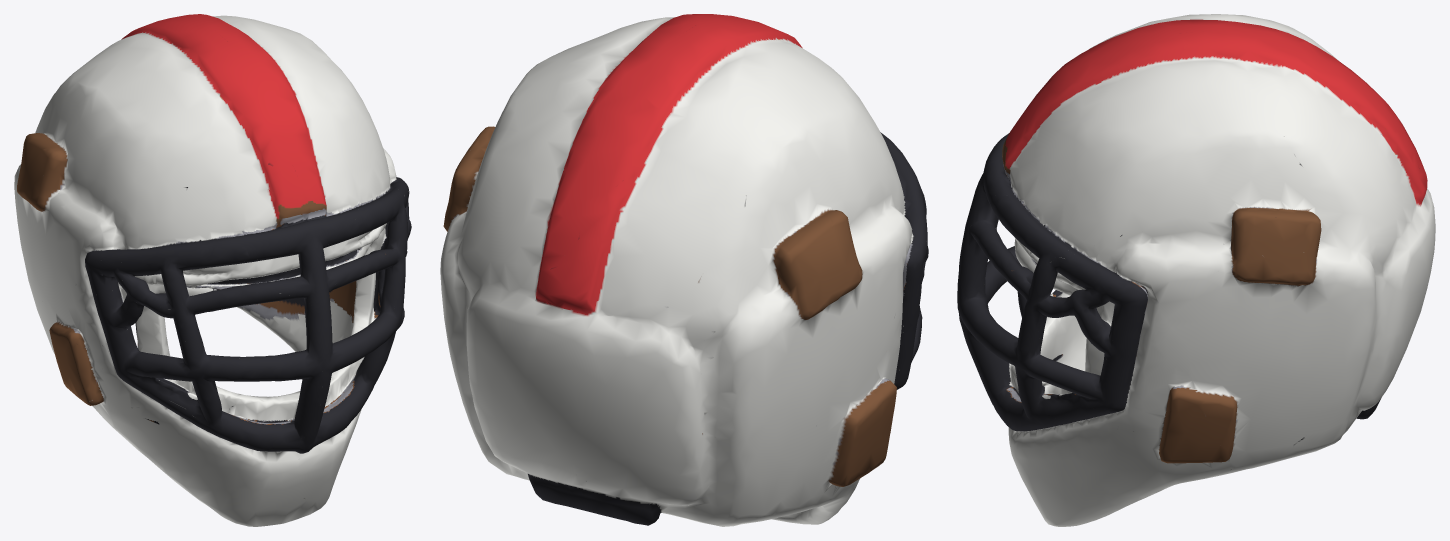
The model's file is goalie_mask.obj.
3 views of the same model, side by side, from view 1: azimuth 30°, elevation 25°; view 2: azimuth 150°, elevation 25°; view 3: azimuth 270°, elevation 25° (orthographic). The views are drawn at different scales.
Bounding box in the file's own units: 1.44 × 1.9 × 1.71.
Materials: 1 (1 with a texture image).
